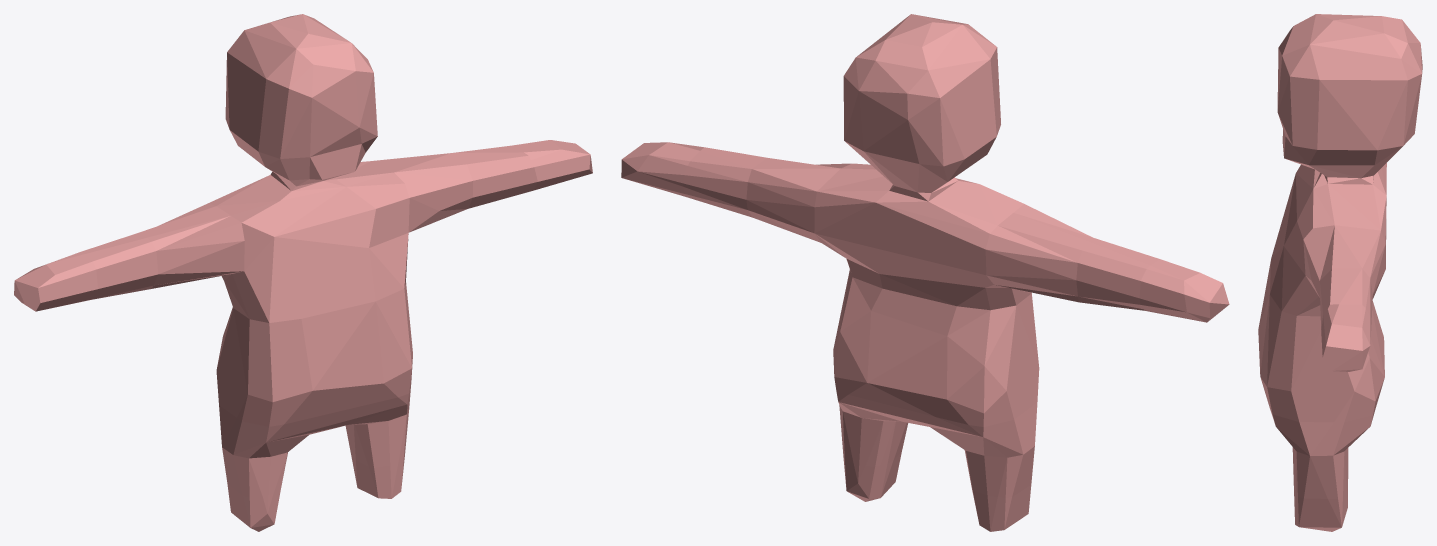
Rendered from person_archive.fbx.
The picture shows the model from 3 angles, left to right: view 1: azimuth 30°, elevation 25°; view 2: azimuth 150°, elevation 25°; view 3: azimuth 270°, elevation 25°; orthographic projection. The views are drawn at different scales.
Visible parts, largest first — view 1: Cube.002; view 2: Cube.002; view 3: Cube.002.
Boxes of the visible parts, x1,y1,x2,y2 form: Cube.002: (14, 14, 592, 531); Cube.002: (621, 14, 1229, 531); Cube.002: (1258, 14, 1422, 531).
Bounding box in the file's own units: 383 × 306 × 94.9.
